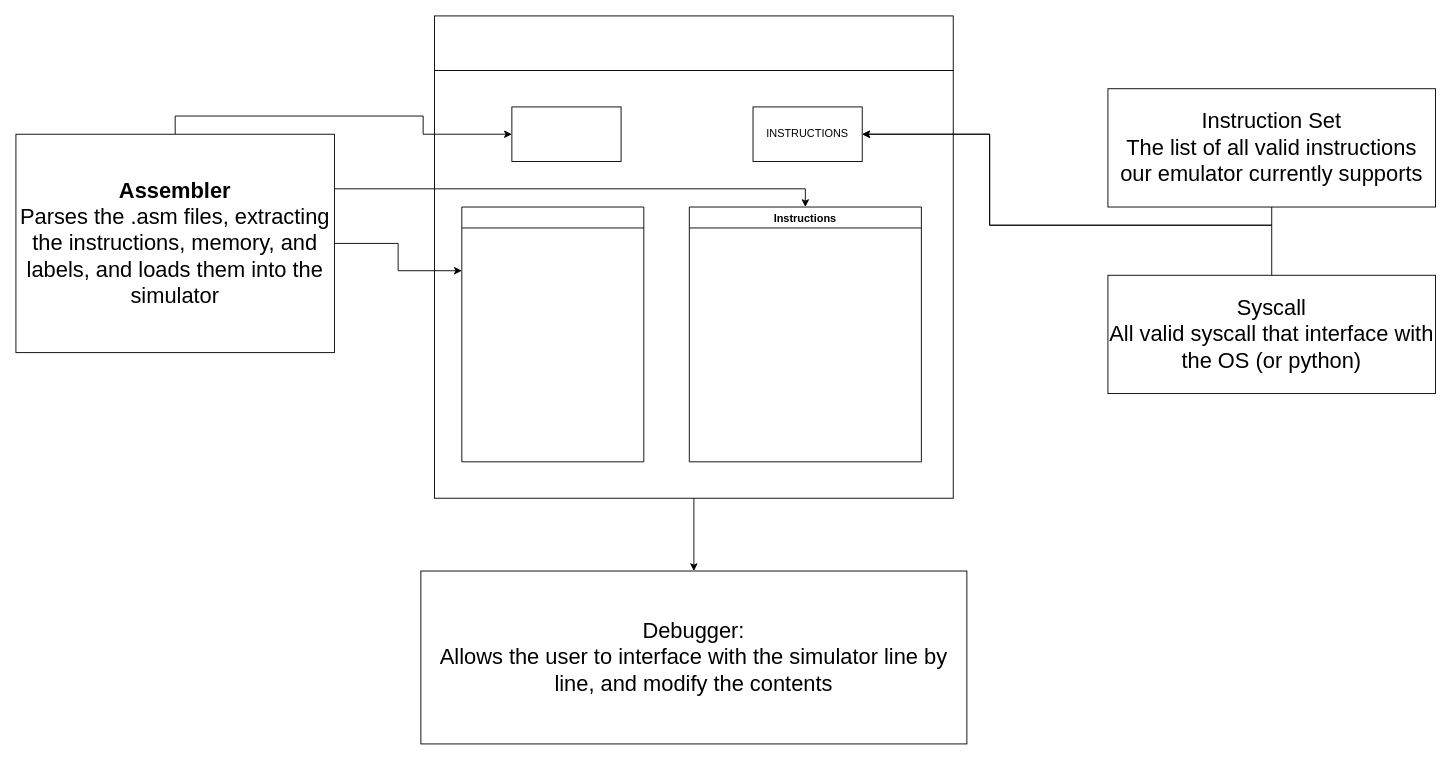
Some shapes in this 1451 by 760 pixel diagram are drawn without their labels. Each missing label, with the box of its shape:
LABELS ADDRESSES: (511, 106, 621, 162)
Memory / Stack: (461, 206, 644, 462)
MIPS SIMULATOR: (434, 15, 953, 71)
